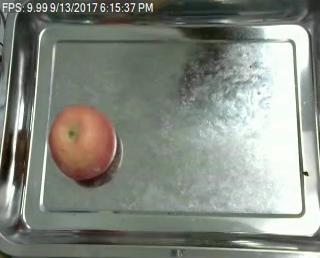apple: (49, 105, 118, 180)
